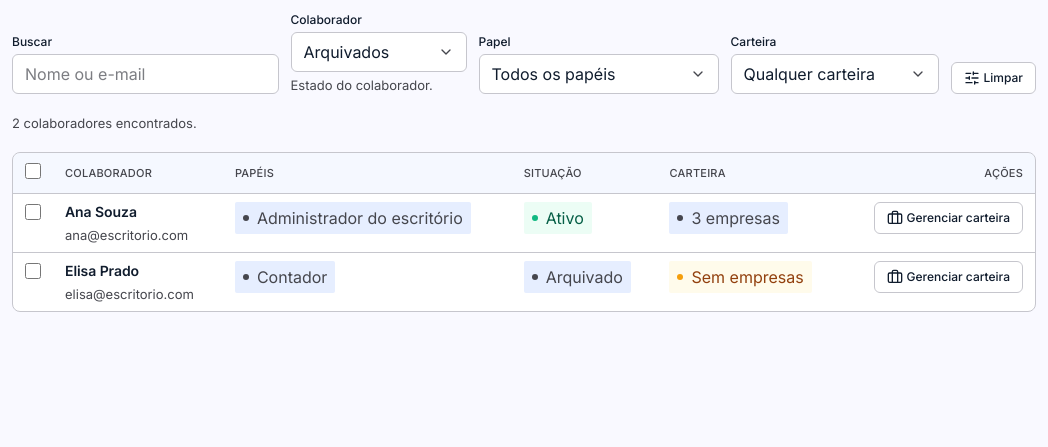
Scenario: CentralDeCarteiras › usuário arquivado na seleção bloqueia o lote e explica por quê
Click the checkbox named "Selecionar Elisa Prado": (33, 271) [25, 263, 41, 279]
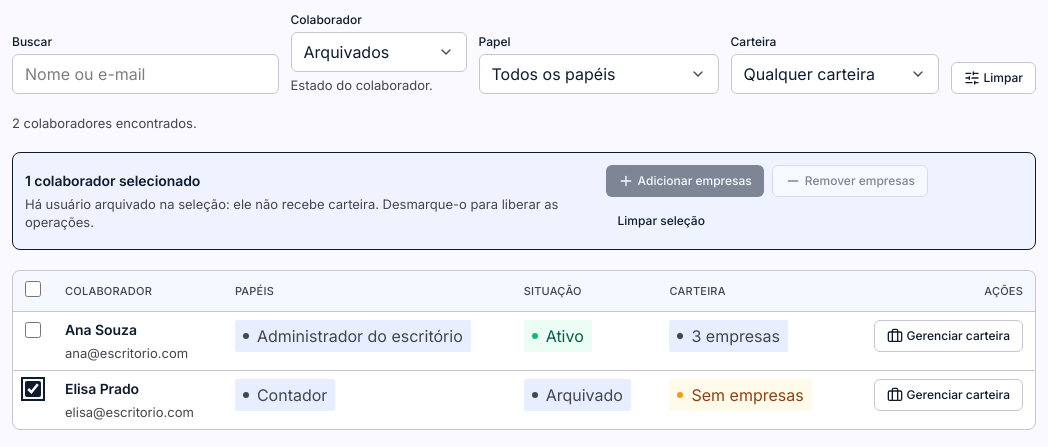
Expected: the button "Adicionar empresas" is disabled, [606, 165, 764, 197]
Expected: the button "Remover empresas" is disabled, [772, 165, 928, 197]
Expected: the text "usuário arquivado" is shown, [25, 196, 558, 230]
